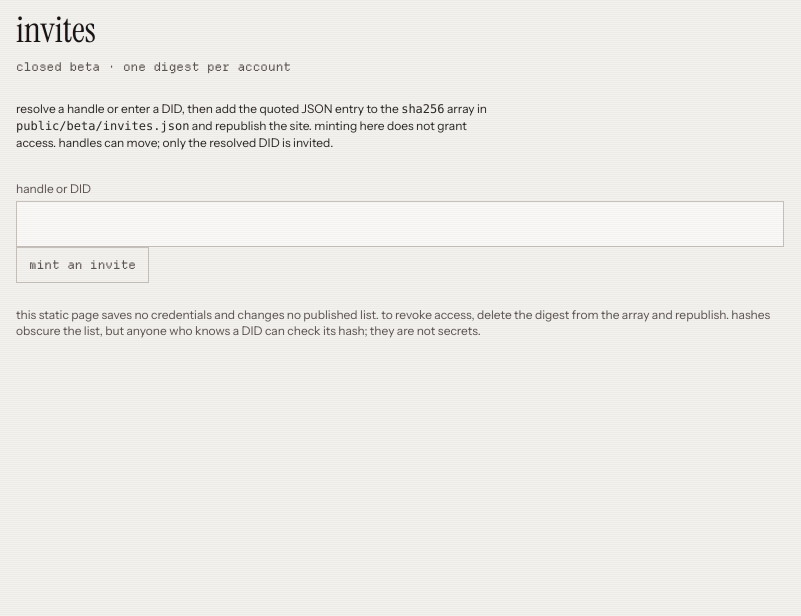
it: admin invites › clears the previous draft before a failed resolution instead of publishing it again
In the field labelled "handle or DID": (400, 224) [16, 201, 784, 247], type "did:plc:ym6n47hhl23xcx3hi7qncbh4"
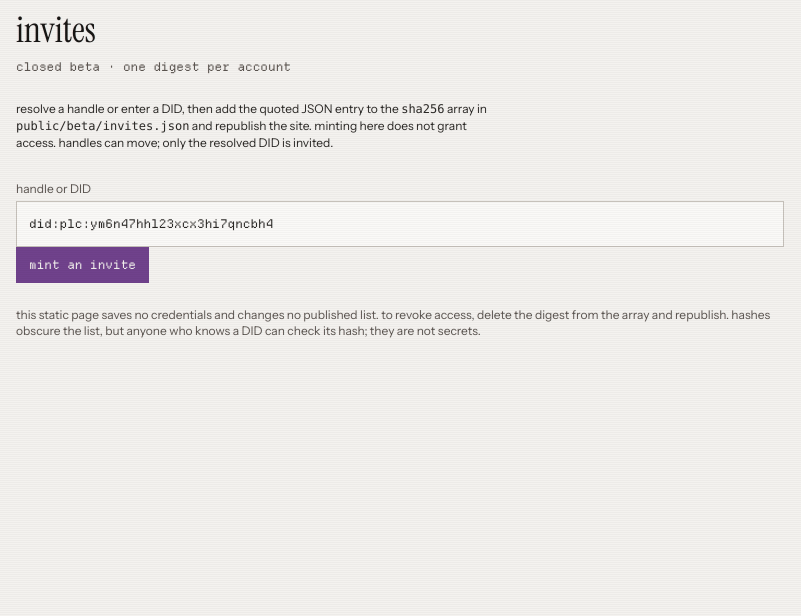
Click the button "mint an invite": (82, 265) [16, 247, 149, 283]
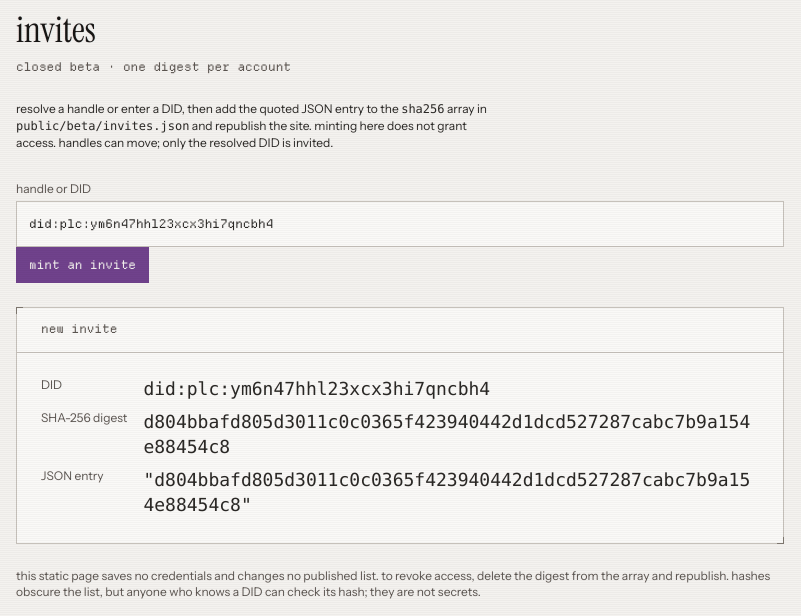
Check: the element named "invitation digest" is shown, box [143, 411, 750, 458]
Replace the text in the field labelled "handle or DID" with "missing.test": (400, 224) [16, 201, 784, 247]
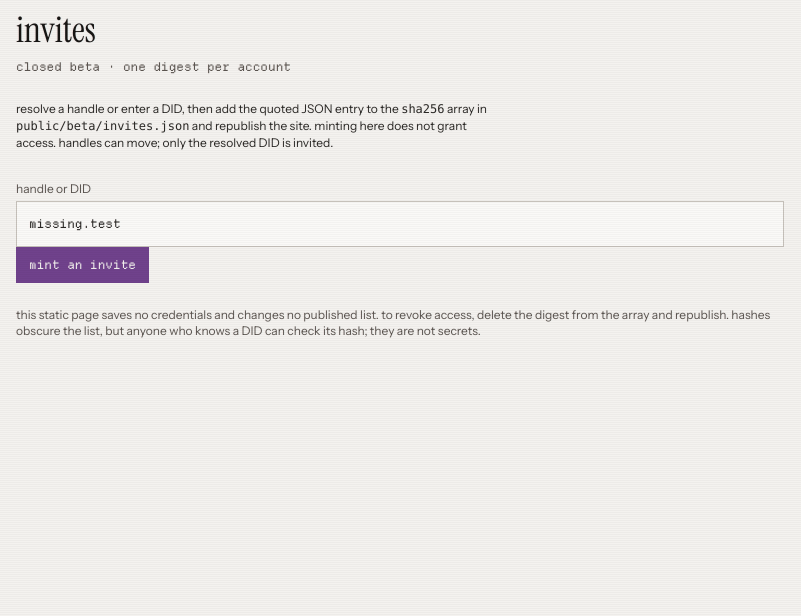
Click the button "mint an invite": (82, 265) [16, 247, 149, 283]
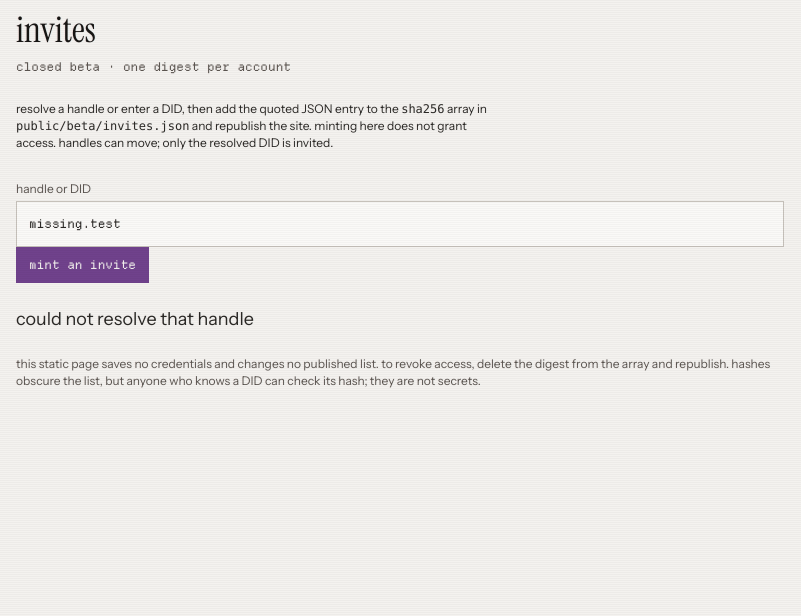
Check: the message "could not resolve that handle" is shown, box [16, 308, 254, 330]
